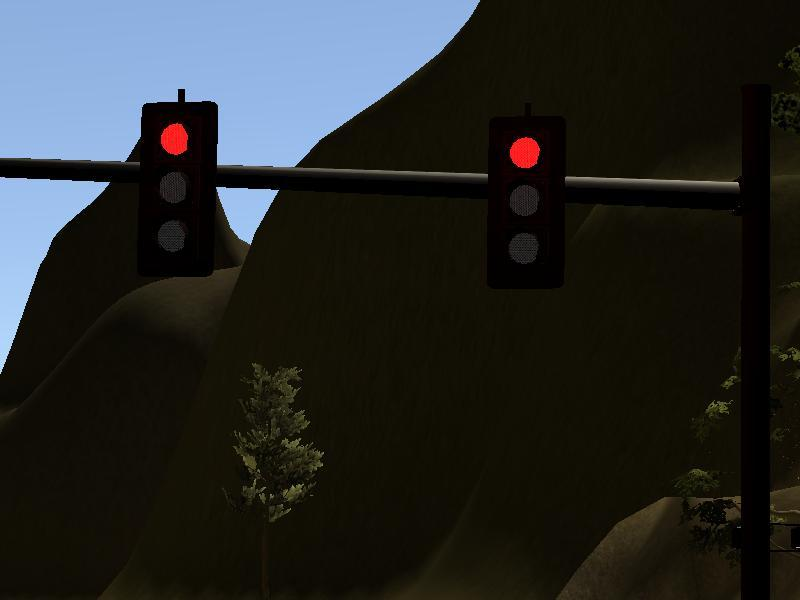Red: (487, 116, 565, 290), (139, 102, 217, 276)
